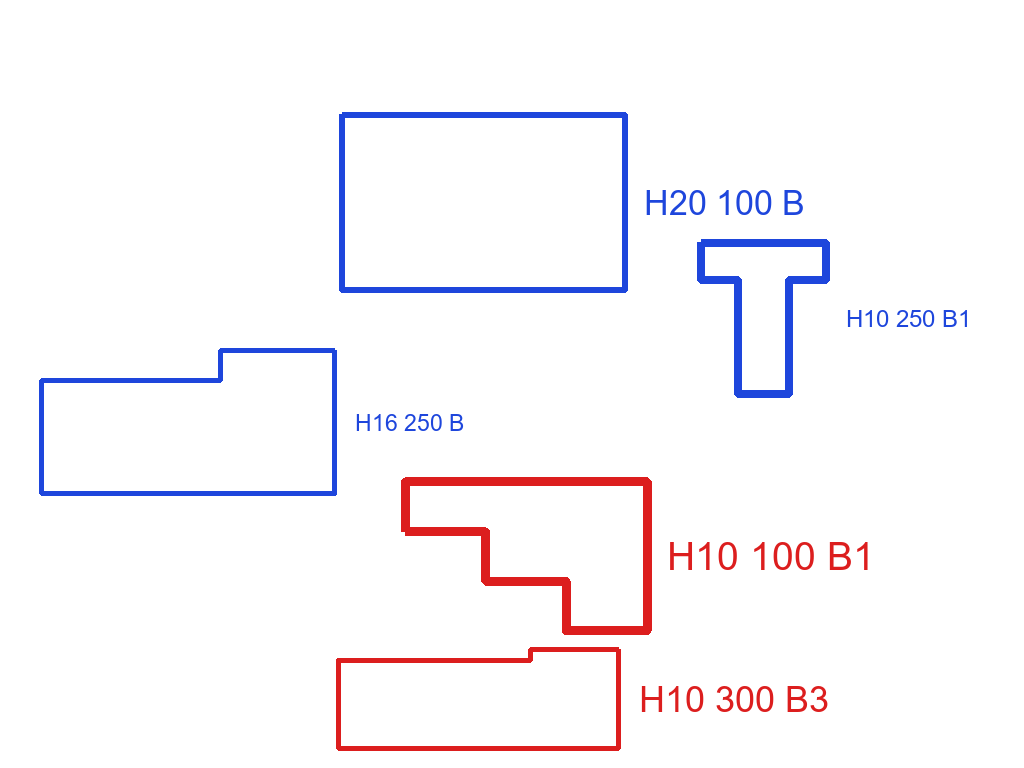shape: (337, 110, 629, 296), (37, 346, 339, 498), (399, 475, 654, 637), (334, 645, 623, 753), (696, 237, 832, 401)
text: (665, 540, 877, 572), (637, 684, 831, 714), (642, 188, 807, 217), (844, 308, 973, 329), (353, 412, 466, 433)
